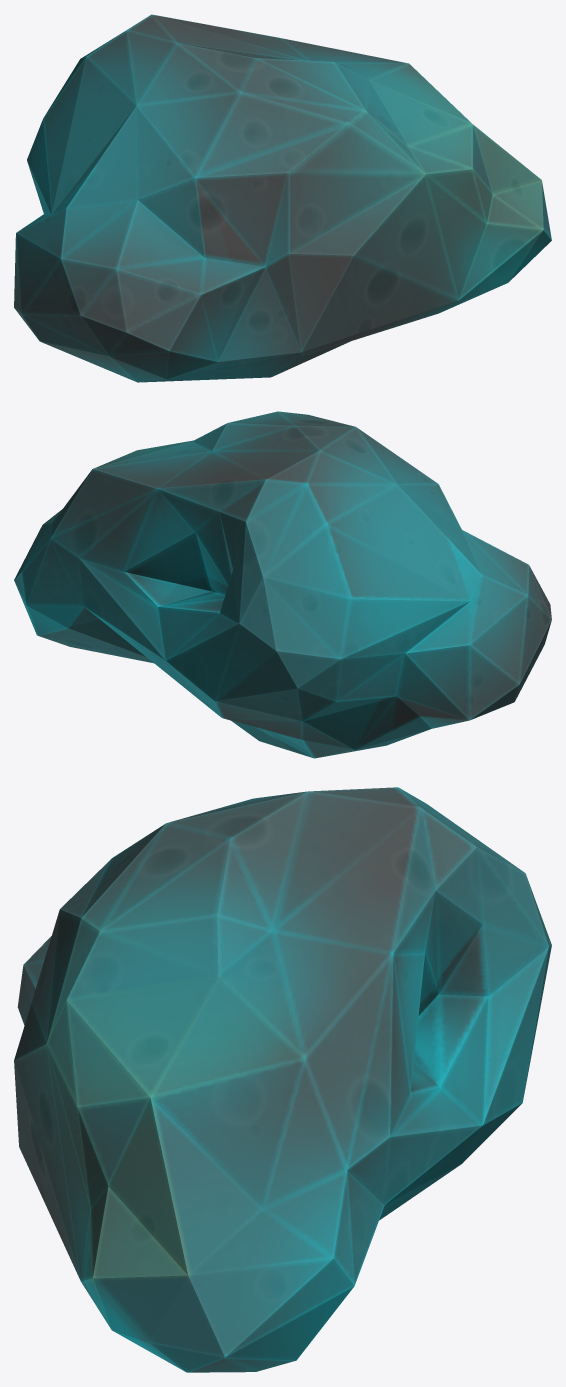
Rendered from diamond.fbx.
3 renders of one model, top to bottom at view 1: azimuth 30°, elevation 25°; view 2: azimuth 150°, elevation 25°; view 3: azimuth 270°, elevation 25°, orthographic. The views are drawn at different scales.
Parts seen in each view (by area): view 1: diamond; view 2: diamond; view 3: diamond.
Part boxes in pixels (x1,y1,x2,y2): diamond: (14, 14, 551, 382); diamond: (14, 411, 551, 758); diamond: (14, 787, 551, 1372).
Bounding box in the file's own units: 808 × 474 × 515.
Materials: 1 (1 with a texture image).
